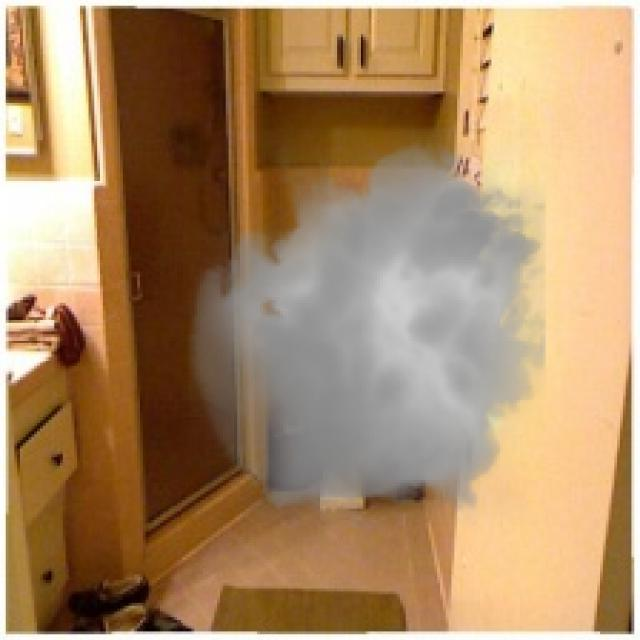Smoke: (177, 128, 563, 528)
